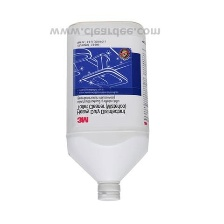cleaning_solution: (62, 18, 151, 203)
